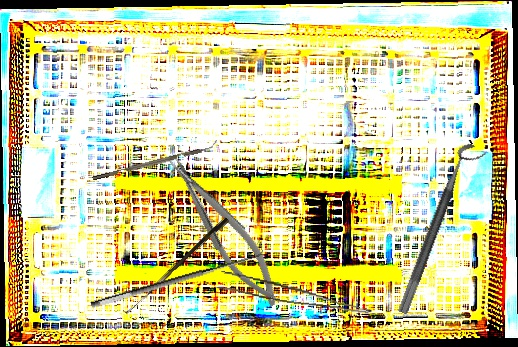Chopper: (90, 139, 220, 181)
Fixation Ring: (396, 140, 488, 321)
Hook Surgical: (86, 238, 266, 311), (125, 215, 230, 319)
Needle Holder: (160, 143, 290, 316)
Tissue Forceps: (215, 270, 375, 315)
